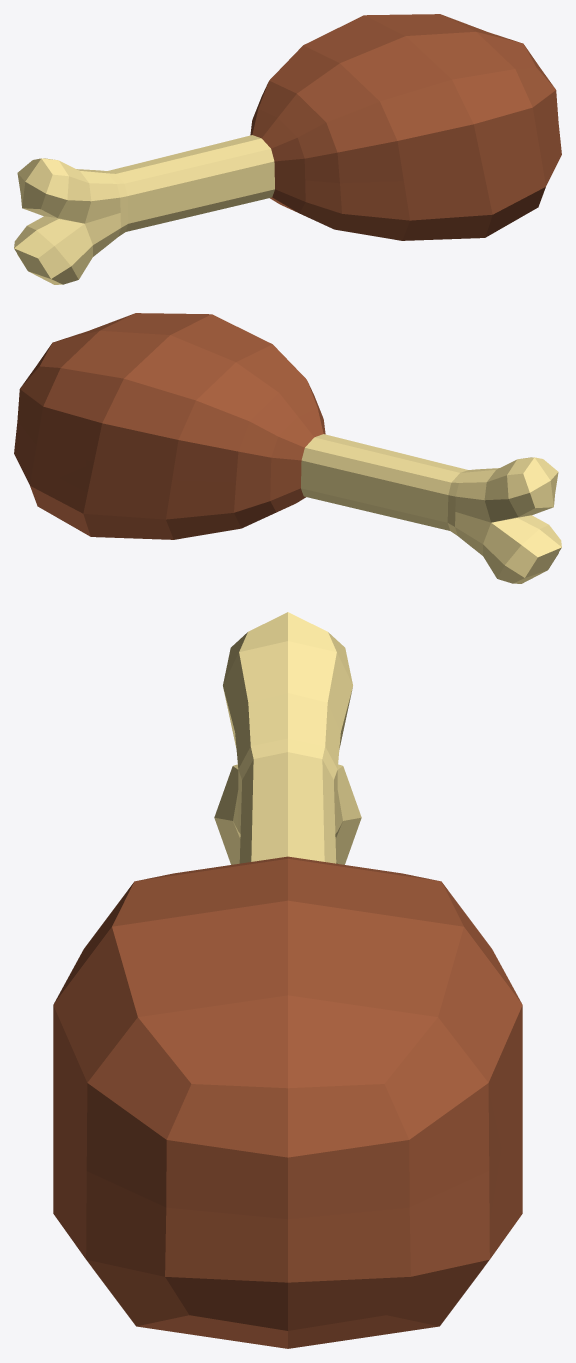
Rendered from Meat.fbx.
3 renders of one model, top to bottom at view 1: azimuth 30°, elevation 25°; view 2: azimuth 150°, elevation 25°; view 3: azimuth 270°, elevation 25°, orthographic. The views are drawn at different scales.
Visible parts, largest first — view 1: ChickenLeg; view 2: ChickenLeg; view 3: ChickenLeg.
Boxes of the visible parts, left/top/right/bottom form: ChickenLeg: left=14, top=14, right=561, bottom=284; ChickenLeg: left=14, top=313, right=561, bottom=583; ChickenLeg: left=53, top=612, right=522, bottom=1348.
Bounding box in the file's own units: 202 × 69.28 × 77.49.
